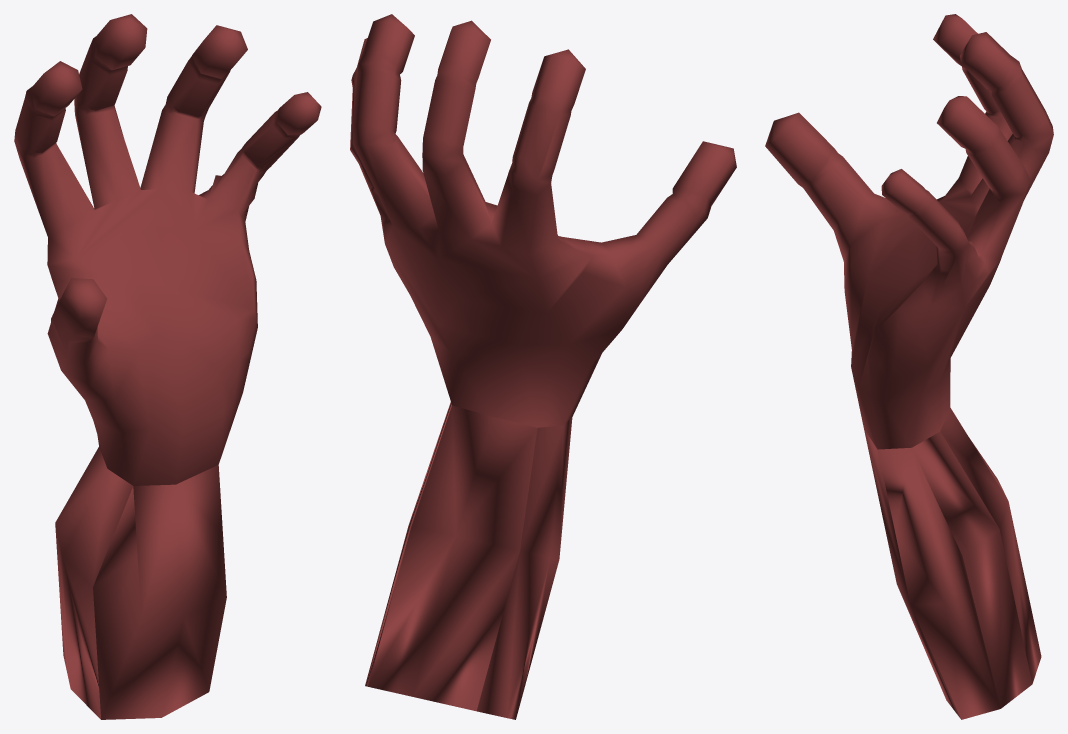
The model's file is hand.fbx.
3 views of the same model, side by side, from view 1: azimuth 30°, elevation 25°; view 2: azimuth 150°, elevation 25°; view 3: azimuth 270°, elevation 25° (orthographic). The views are drawn at different scales.
Visible parts, largest first — view 1: ahand; view 2: ahand; view 3: ahand.
Part boxes in pixels (bbox=[...]): ahand: bbox=[14, 14, 321, 719]; ahand: bbox=[350, 14, 736, 719]; ahand: bbox=[765, 14, 1053, 719].
Bounding box in the file's own units: 92.31 × 196 × 78.1.
